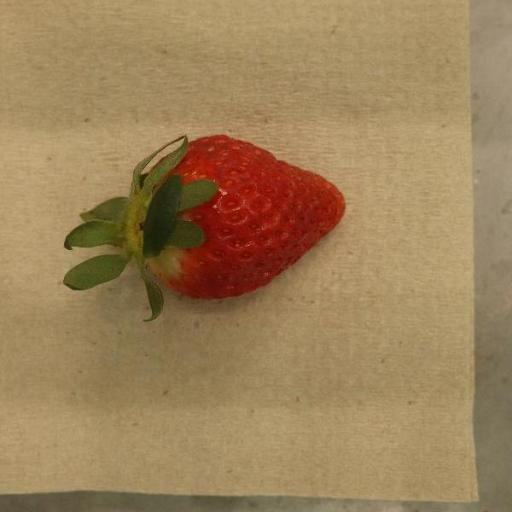Strawberry: (63, 135, 346, 321)
